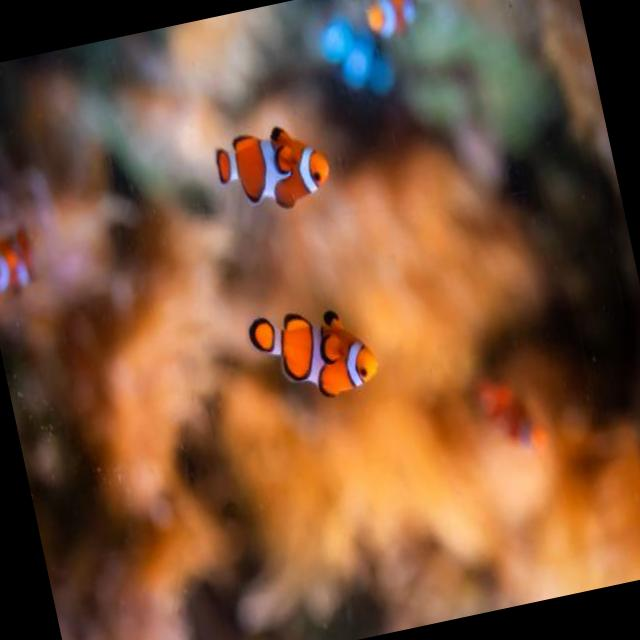ClownFish: (242, 288, 380, 410), (204, 114, 336, 222), (359, 0, 437, 48), (0, 220, 45, 300)
